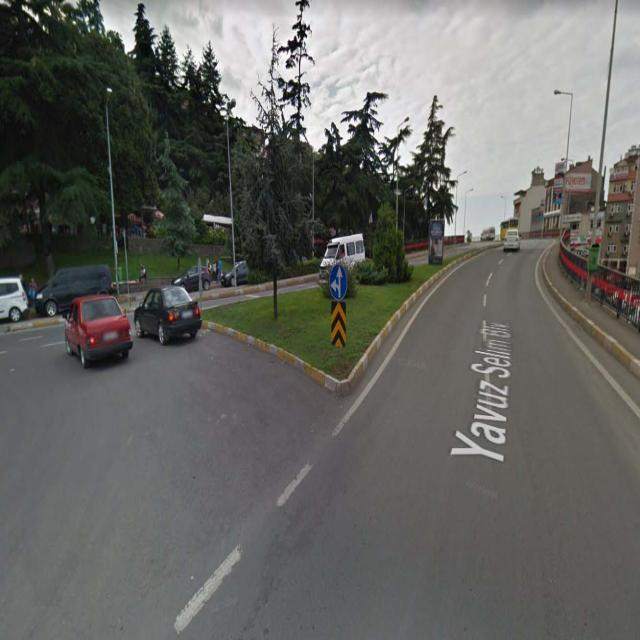ilerisol: (331, 264, 346, 302)
